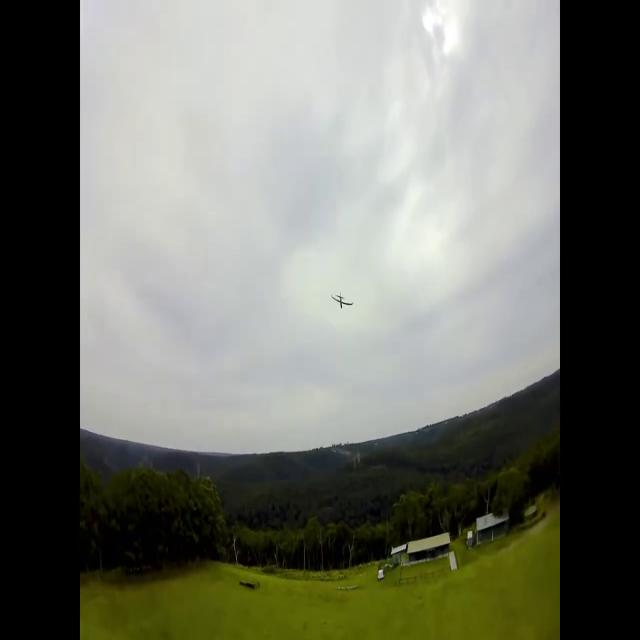iha: (330, 293, 356, 309)
